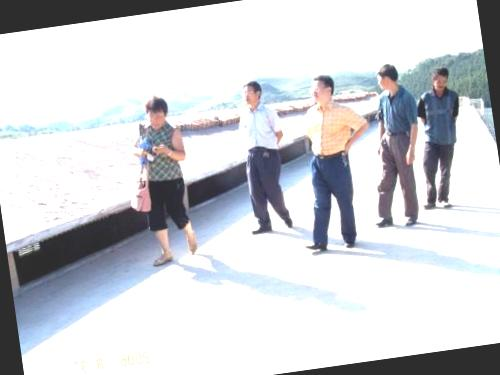no_helmet: (306, 69, 340, 110), (142, 90, 172, 130), (373, 59, 403, 95), (238, 76, 267, 110), (426, 62, 454, 92)
